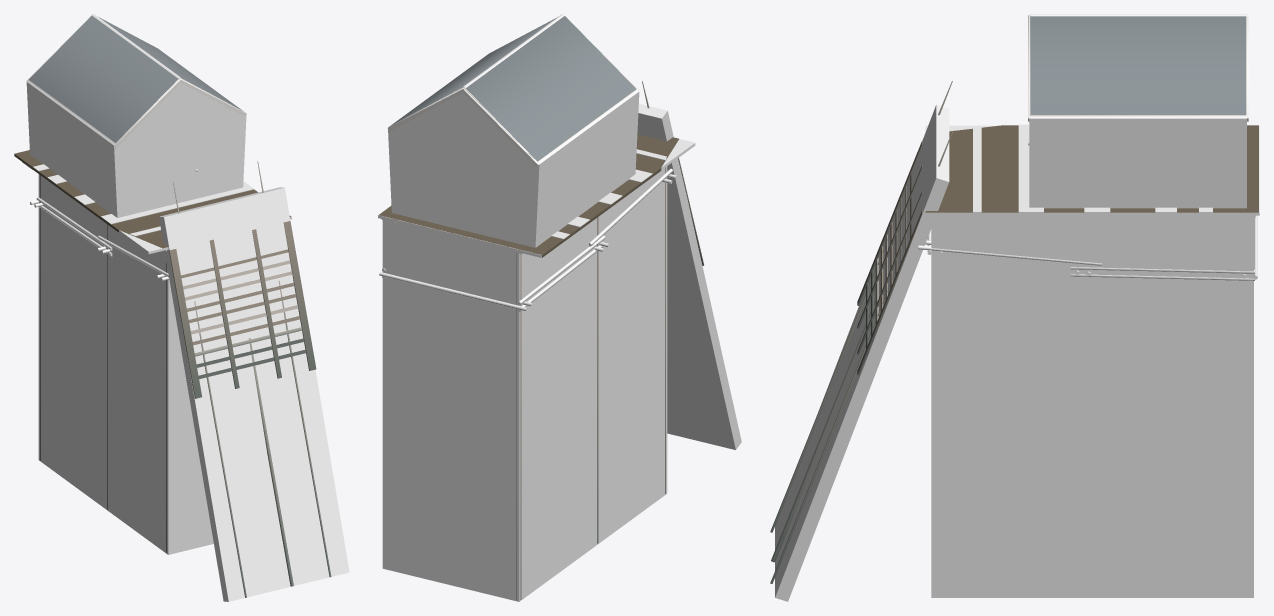
File: eca_bld_fv_shore_shack.DAE
3 views of the same model, side by side, from view 1: azimuth 30°, elevation 25°; view 2: azimuth 150°, elevation 25°; view 3: azimuth 270°, elevation 25° (orthographic). The views are drawn at different scales.
Parts seen in each view (by area): view 1: Colmesh-1, eca_bld_fv_shore_shack250, eca_bld_fv_shore_shack60; view 2: Colmesh-1, eca_bld_fv_shore_shack250, eca_bld_fv_shore_shack60; view 3: Colmesh-1, eca_bld_fv_shore_shack250, eca_bld_fv_shore_shack60.
Boxes of the visible parts, x1,y1,x2,y2 form: Colmesh-1: (16,14,349,601); eca_bld_fv_shore_shack250: (22,14,331,597); eca_bld_fv_shore_shack60: (14,150,291,248); Colmesh-1: (378,14,741,601); eca_bld_fv_shore_shack250: (379,14,703,599); eca_bld_fv_shore_shack60: (379,134,678,257); Colmesh-1: (775,14,1259,601); eca_bld_fv_shore_shack250: (770,14,1257,583); eca_bld_fv_shore_shack60: (925,125,1258,212).
Bounding box in the file's own units: 4.53 × 10.75 × 13.27.
